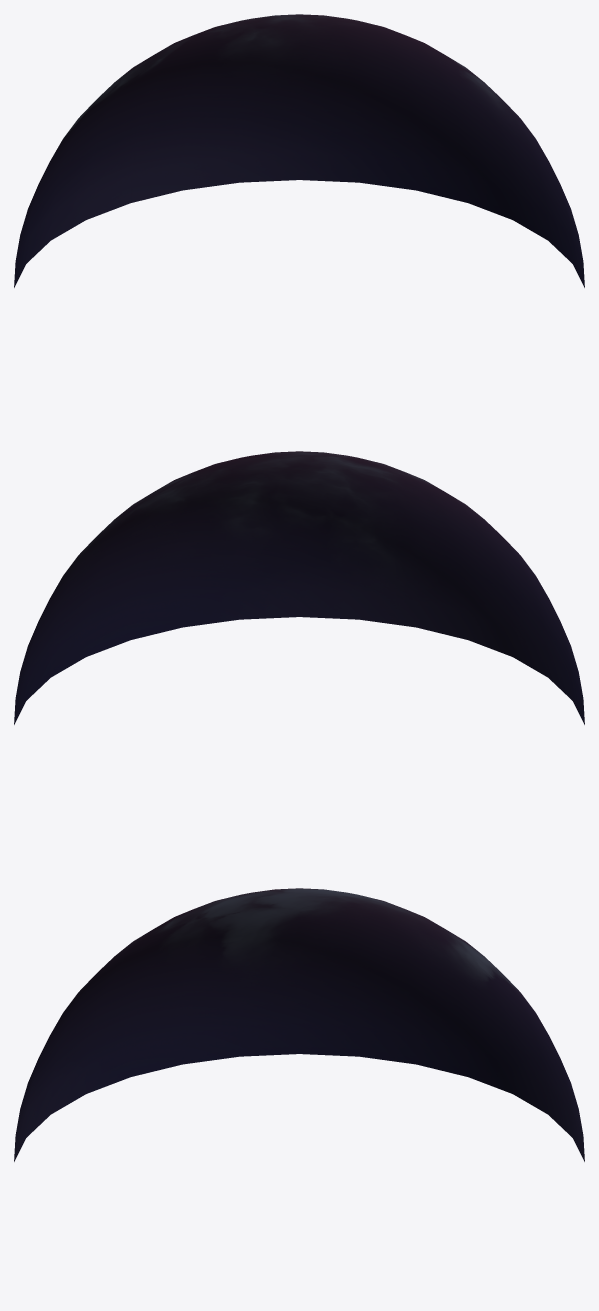
The model's file is SkyboxTest.glb.
3 views of the same model, one above another, from view 1: azimuth 30°, elevation 25°; view 2: azimuth 150°, elevation 25°; view 3: azimuth 270°, elevation 25° (orthographic).
Parts seen in each view (by area): view 1: Skybox; view 2: Skybox; view 3: Skybox.
Boxes of the visible parts, x1,y1,x2,y2 form: Skybox: (14,14,584,287); Skybox: (14,451,584,724); Skybox: (14,888,584,1161).
Size of the model in its own units: 256 by 128 by 255.
1 material, 1 textured.
